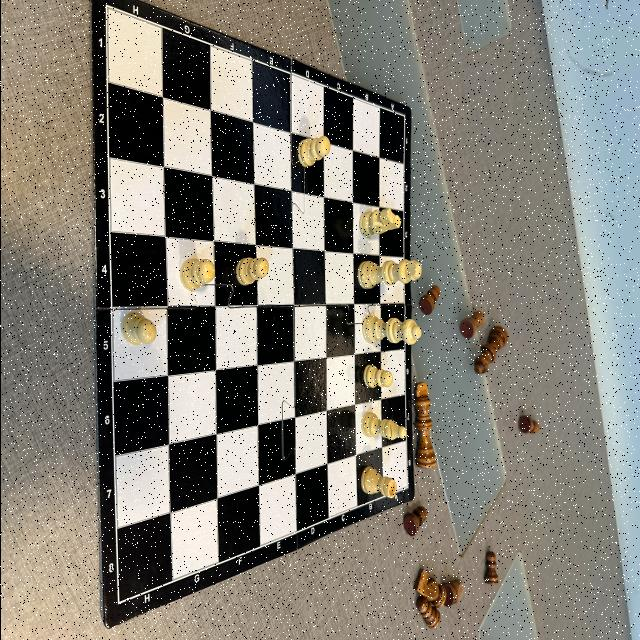Black-Bishop: (517, 415, 540, 435)
Black-King: (412, 381, 436, 469)
Black-Knight: (412, 568, 443, 598), (445, 579, 463, 607)
Black-Pawn: (120, 312, 156, 346), (402, 506, 427, 538), (415, 600, 440, 630), (418, 285, 440, 316), (483, 550, 498, 586)
Black-Queen: (472, 326, 508, 376)
Black-Rook: (458, 310, 483, 340)
White-Bishop: (360, 411, 406, 441)
White-King: (356, 258, 420, 290)
White-Knight: (358, 208, 401, 238)
White-Pawn: (296, 135, 330, 169), (178, 258, 214, 290), (234, 257, 268, 286), (362, 364, 392, 388)
White-Queen: (361, 316, 421, 346)
White-Rook: (359, 466, 396, 498)
